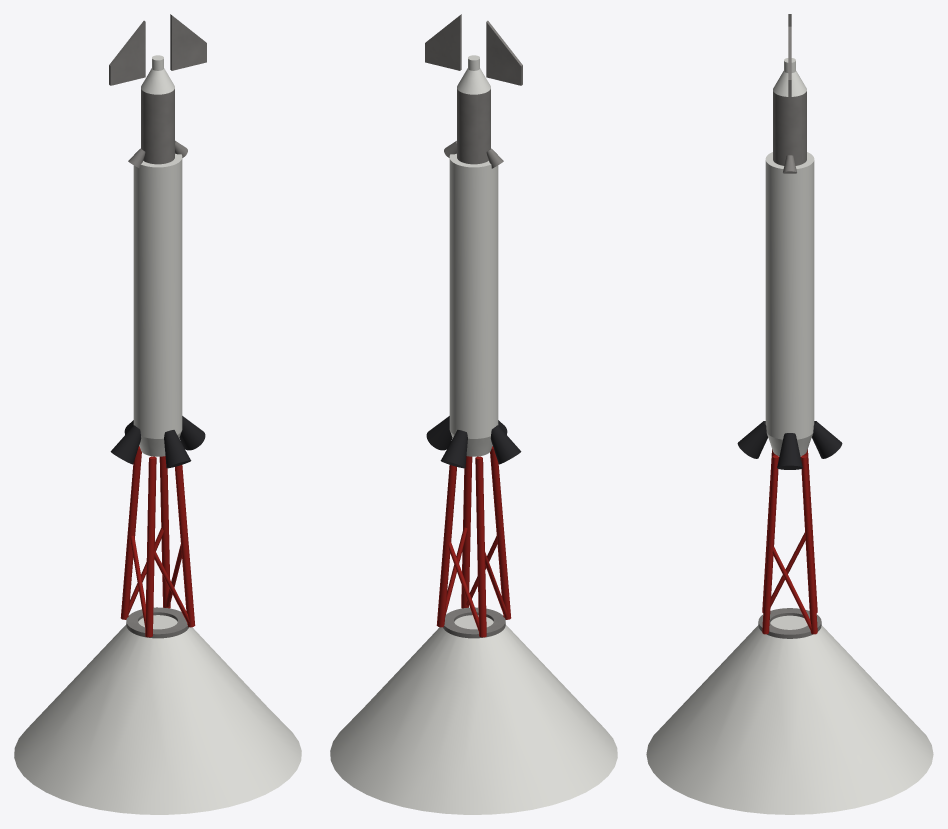
File: prop24_launch_escape_tower_l_canards.glb
3 views of the same model, side by side, from view 1: azimuth 30°, elevation 25°; view 2: azimuth 150°, elevation 25°; view 3: azimuth 270°, elevation 25° (orthographic).
Parts seen in each view (by area): view 1: boost_cover, abort_motor, tower_truss, jettison_motor, abort_nozzles, canard_2, canard_1, docking_ring, nose; view 2: boost_cover, abort_motor, tower_truss, jettison_motor, abort_nozzles, canard_2, canard_1, docking_ring, nose; view 3: boost_cover, abort_motor, tower_truss, jettison_motor, abort_nozzles, docking_ring, nose.
Boxes of the visible parts, x1,y1,x2,y2 form: boost_cover: (14, 615, 301, 814); abort_motor: (133, 153, 182, 456); tower_truss: (120, 446, 195, 637); jettison_motor: (128, 89, 187, 168); abort_nozzles: (110, 416, 205, 468); canard_2: (109, 20, 145, 85); canard_1: (170, 14, 206, 70); docking_ring: (126, 607, 188, 638); nose: (141, 55, 174, 94); boost_cover: (330, 615, 617, 814); abort_motor: (449, 153, 498, 456); tower_truss: (436, 446, 511, 637); jettison_motor: (444, 89, 503, 168); abort_nozzles: (426, 416, 521, 468); canard_2: (486, 20, 522, 85); canard_1: (425, 14, 461, 70); docking_ring: (443, 607, 505, 638); nose: (457, 55, 490, 94); boost_cover: (646, 615, 933, 814); abort_motor: (765, 152, 814, 456); tower_truss: (762, 449, 817, 634); jettison_motor: (773, 91, 806, 173); abort_nozzles: (737, 421, 842, 469); docking_ring: (758, 608, 821, 638); nose: (773, 58, 806, 96).
Bounding box in the file's own units: 3.75 × 10.57 × 3.75.
4 materials, 1 textured.
